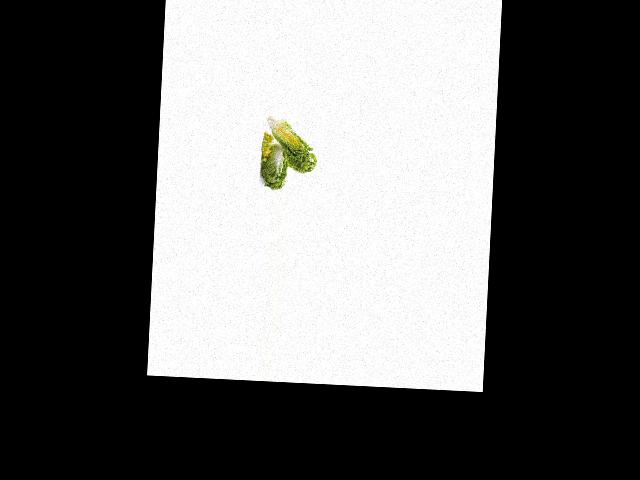lettuce: (257, 137, 290, 189)
